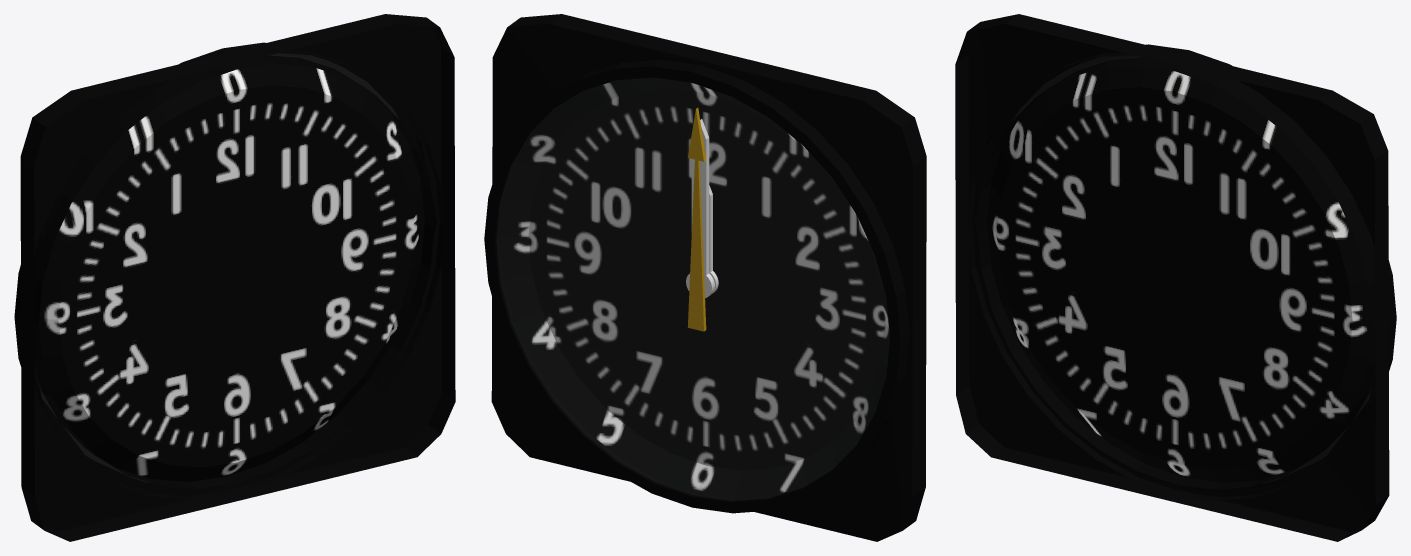
Rendered from clock.obj.
3 renders of one model, left to right at view 1: azimuth 30°, elevation 25°; view 2: azimuth 150°, elevation 25°; view 3: azimuth 330°, elevation 25°, orthographic.
Parts seen in each view (by area): view 1: face, fond, vitre; view 2: face, vitre, fond, seconds, minutes; view 3: face, fond, vitre.
Boxes of the visible parts, x1=… form: face: x1=39, y1=64, x2=424, y2=481; fond: x1=14, y1=14, x2=455, y2=541; vitre: x1=41, y1=54, x2=396, y2=479; face: x1=499, y1=77, x2=889, y2=498; vitre: x1=497, y1=78, x2=889, y2=500; fond: x1=484, y1=14, x2=926, y2=541; seconds: x1=687, y1=107, x2=706, y2=331; minutes: x1=686, y1=119, x2=714, y2=298; face: x1=987, y1=66, x2=1372, y2=482; fond: x1=955, y1=14, x2=1396, y2=541; vitre: x1=1015, y1=55, x2=1369, y2=482.
Size of the model in its own units: 0.0582 by 0.058 by 0.00548.
Materials: 2 (1 with a texture image).
